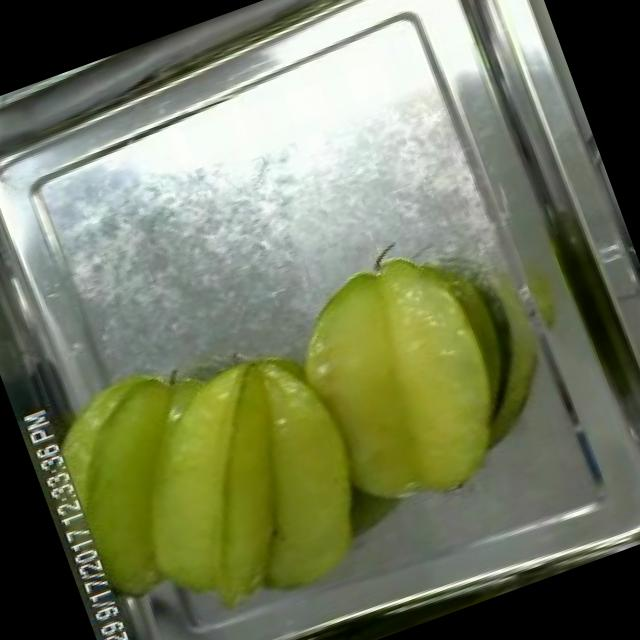fruit: (31, 312, 401, 640), (263, 225, 542, 542)
